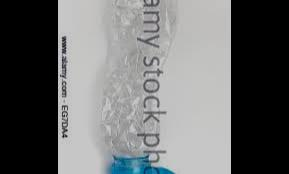Plastic: (90, 0, 190, 173)
